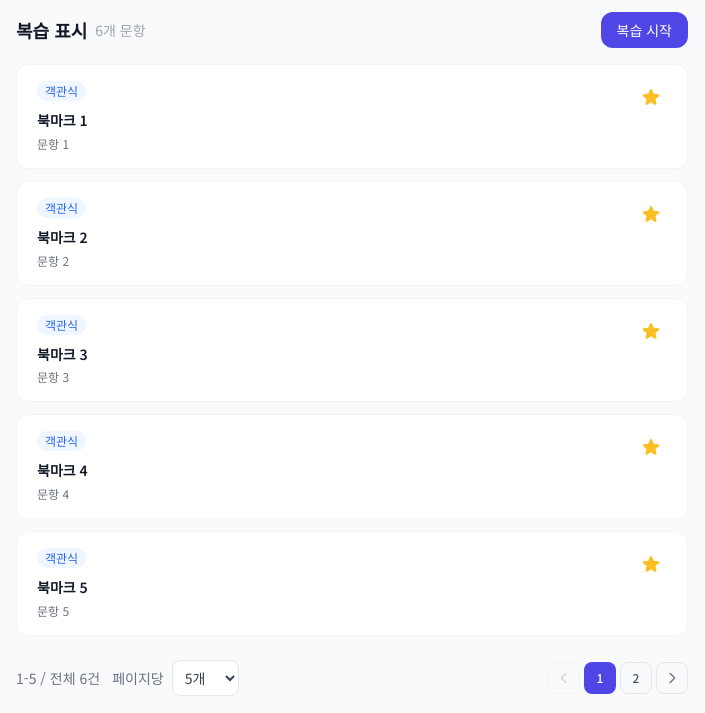
Test case: BookmarksPage 페이지네이션 › 북마크를 기본 다섯 개씩 표시하고 다음 페이지로 이동한다
expect the text "북마크 1" is shown: met, box [37, 110, 88, 130]
expect the text "북마크 5" is shown: met, box [37, 577, 88, 597]
Click the button named "다음 페이지" at (672, 678), box [656, 662, 688, 694]
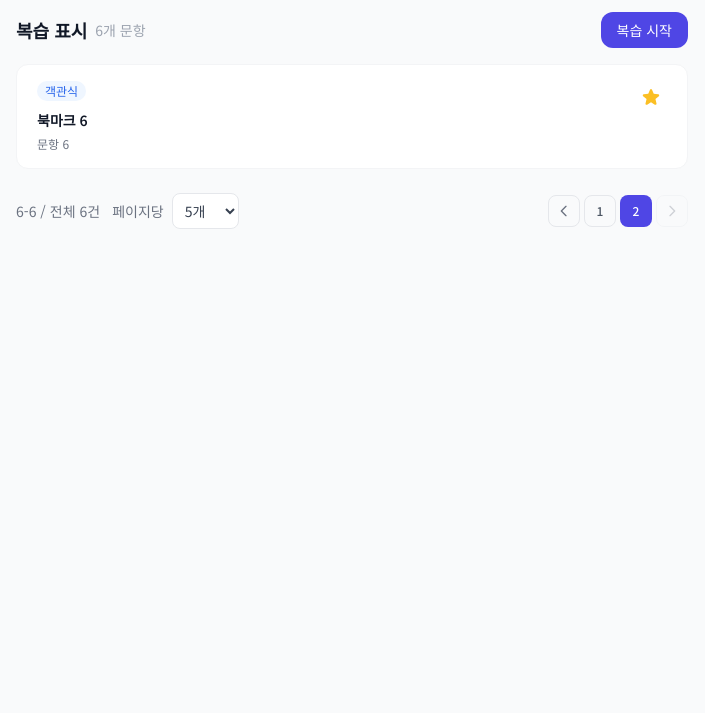
expect the text "북마크 6" is shown: met, box [37, 110, 88, 130]
expect the text "북마크 1" is gone: met
